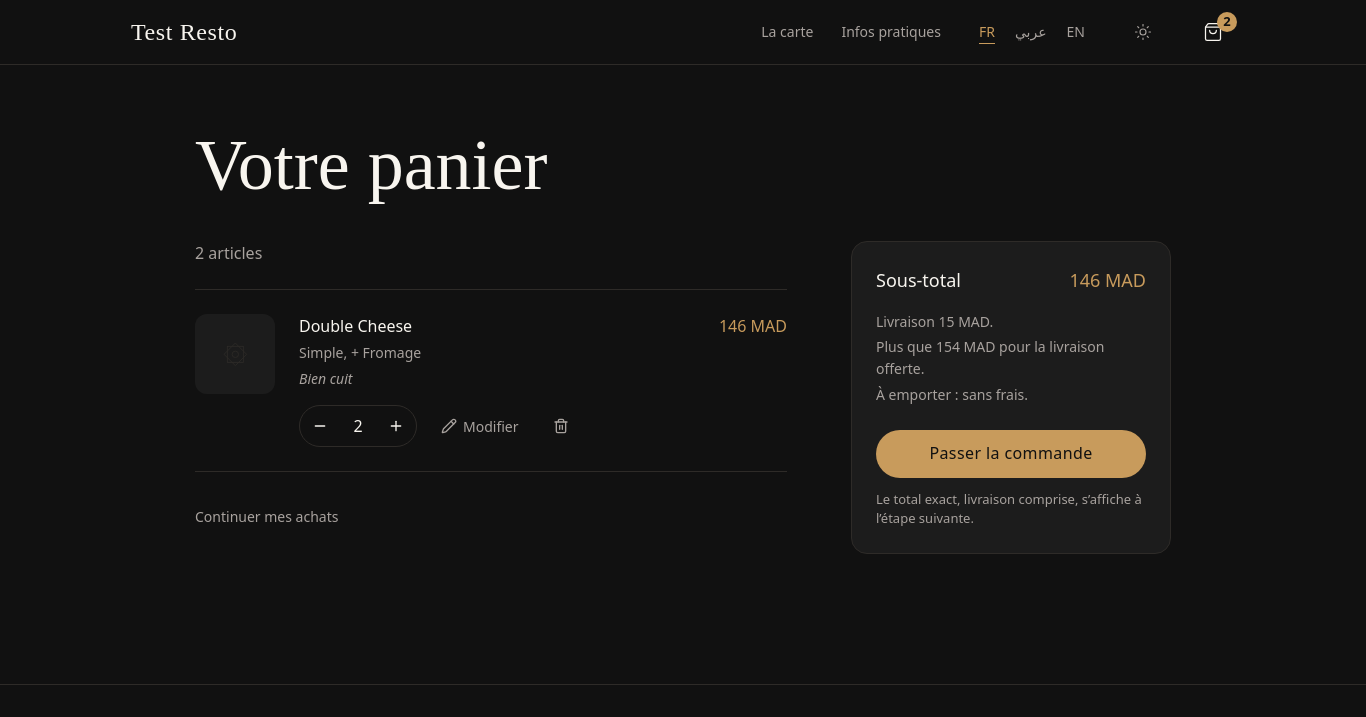
Test: editing a cart line › reopens the dish with the chosen options and replaces the line
Click the link with aria-label "Modifier Double Cheese" at (480, 426), box [441,416,518,436]
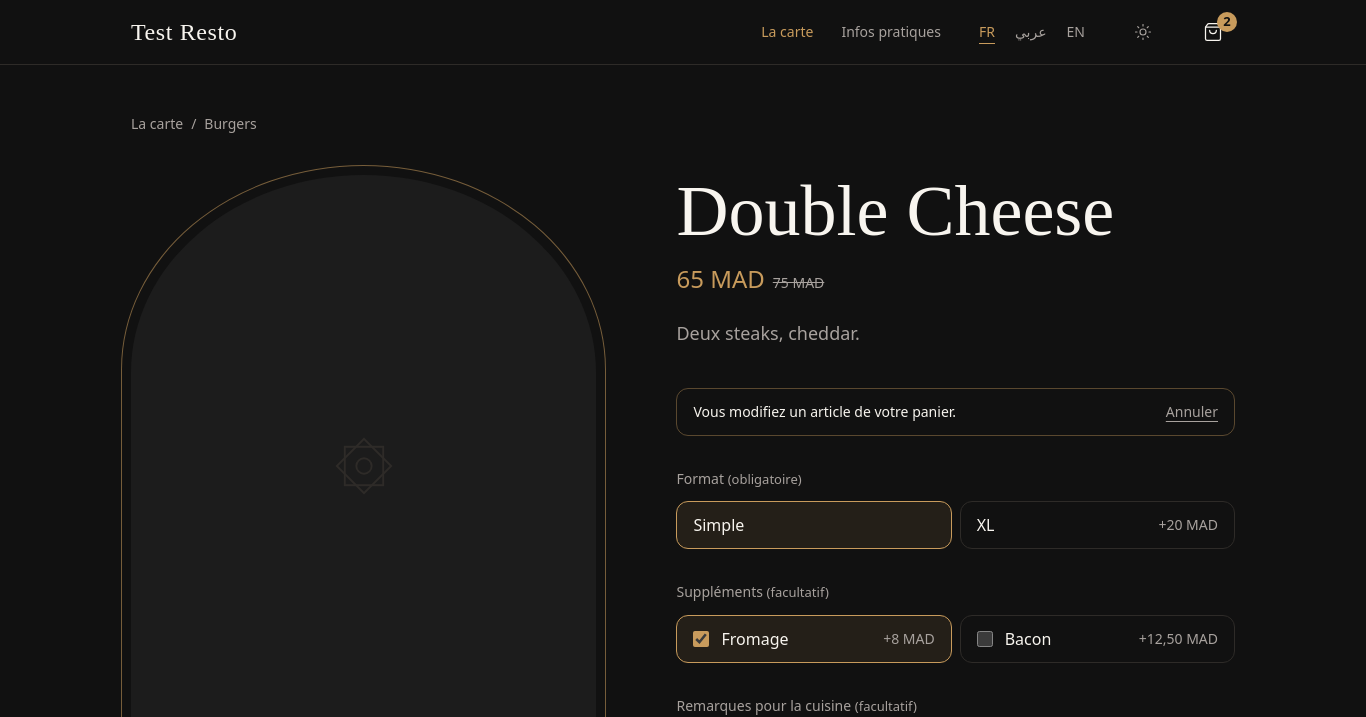
Expected: the text "Vous modifiez un article de votre panier." is shown, [694,402,956,421]
Expected: the radio button labelled "Simple" is checked, [676,501,952,549]
Expected: the checkbox labelled "Fromage +8 MAD" is checked, [694,631,710,647]
Click the radio button labelled "XL +20 MAD" at (1192, 525), box [960,501,1235,549]
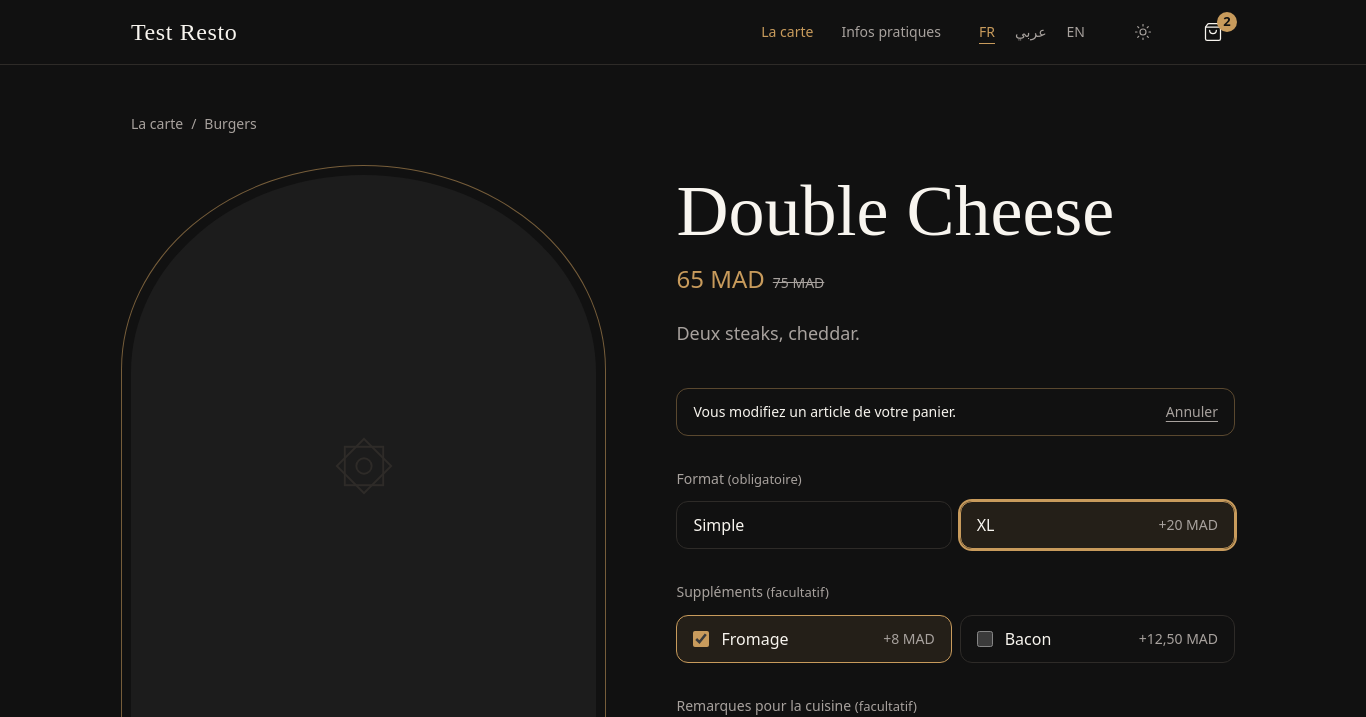
Click the checkbox labelled "Fromage +8 MAD" at (702, 639), box [694,631,710,647]
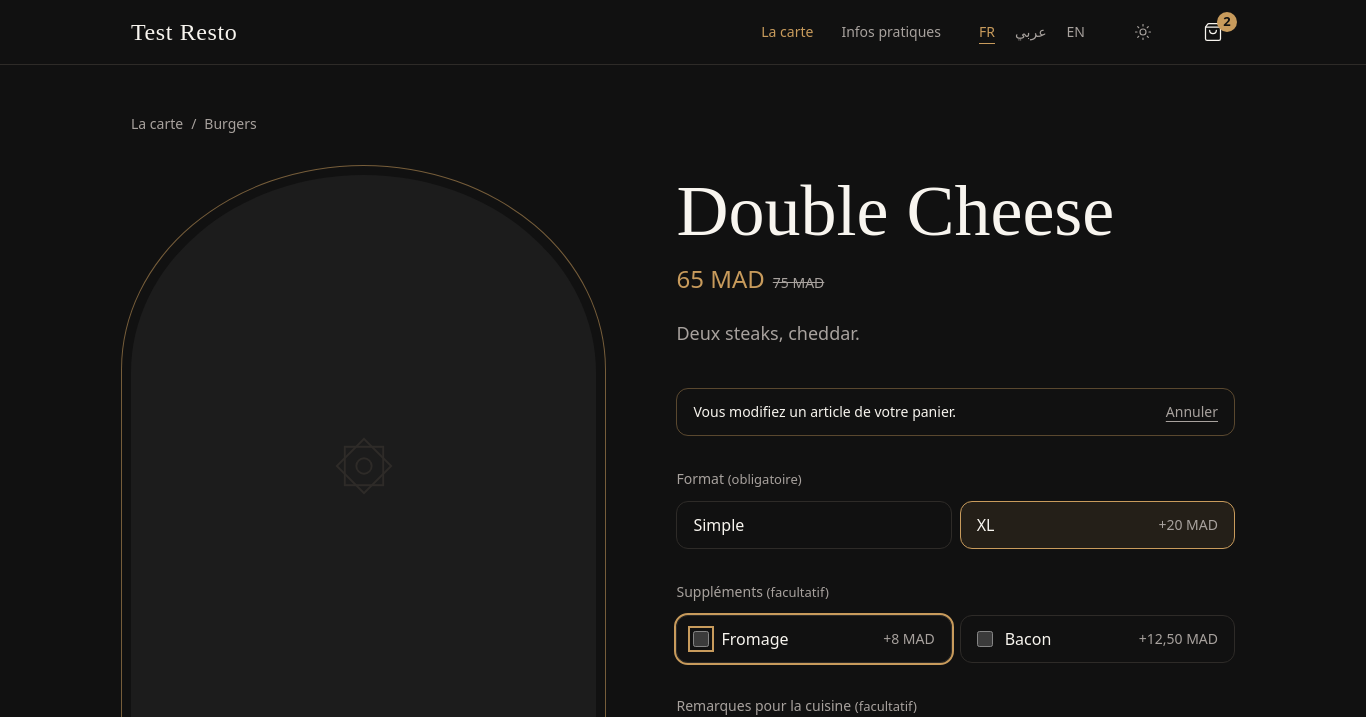
Click the checkbox labelled "Bacon +12,50 MAD" at (985, 639), box [977,631,993,647]
(page scrolled)
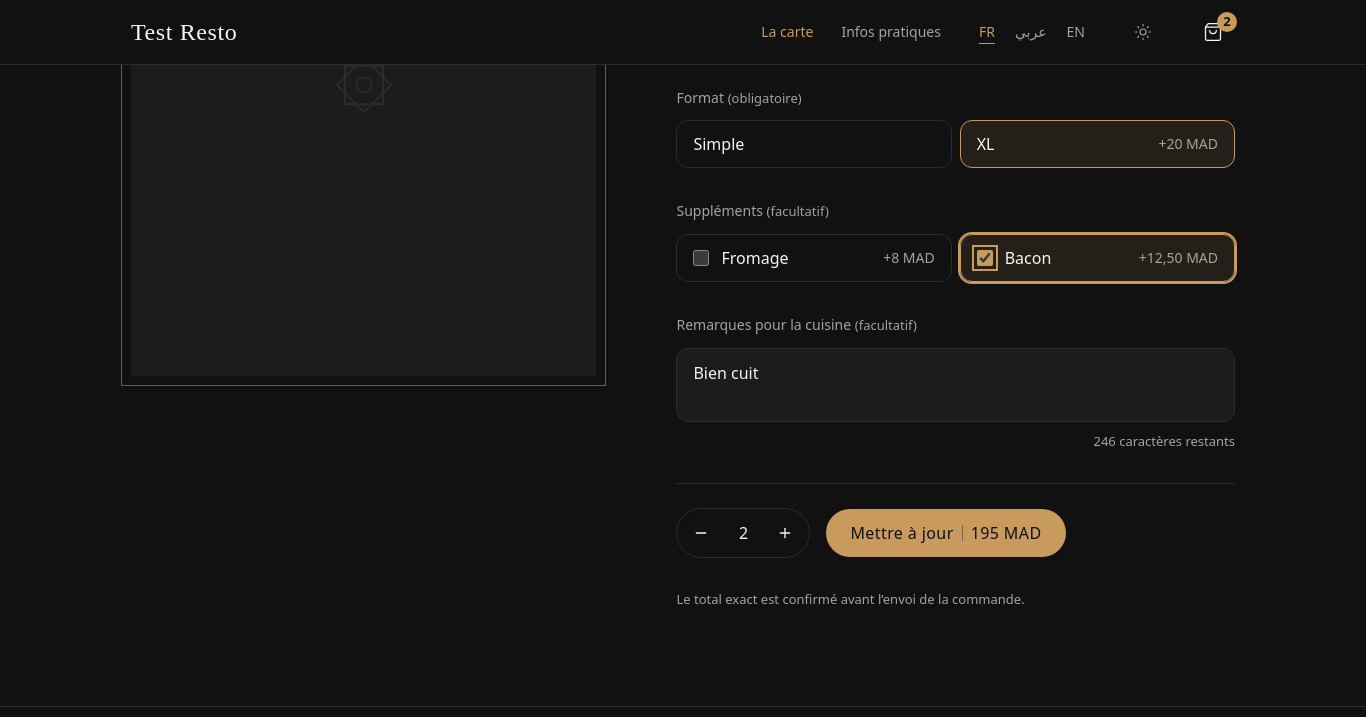
Clear the text box labelled "Remarques pour la cuisine (facultatif)" at (956, 385), box [676,348,1235,422]
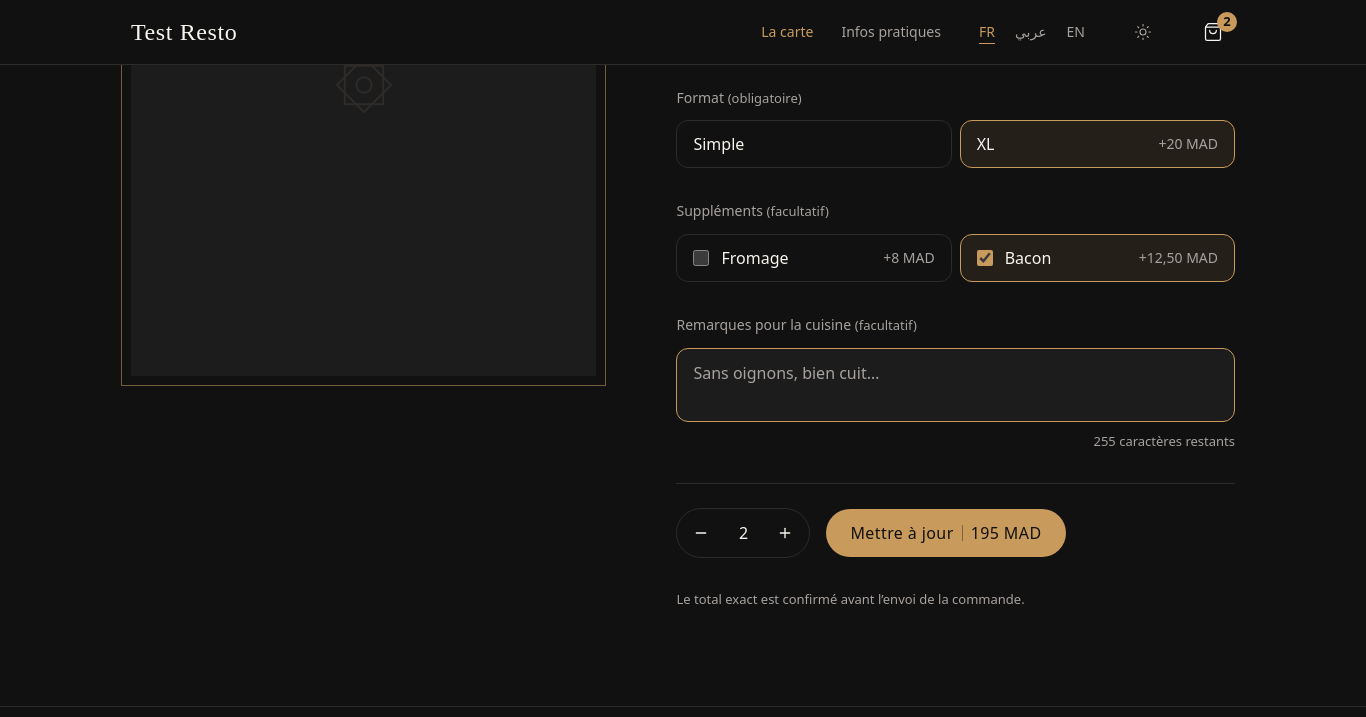
Click the button "Mettre à jour 195 MAD" at (946, 533), box [826,509,1066,557]
(page scrolled)
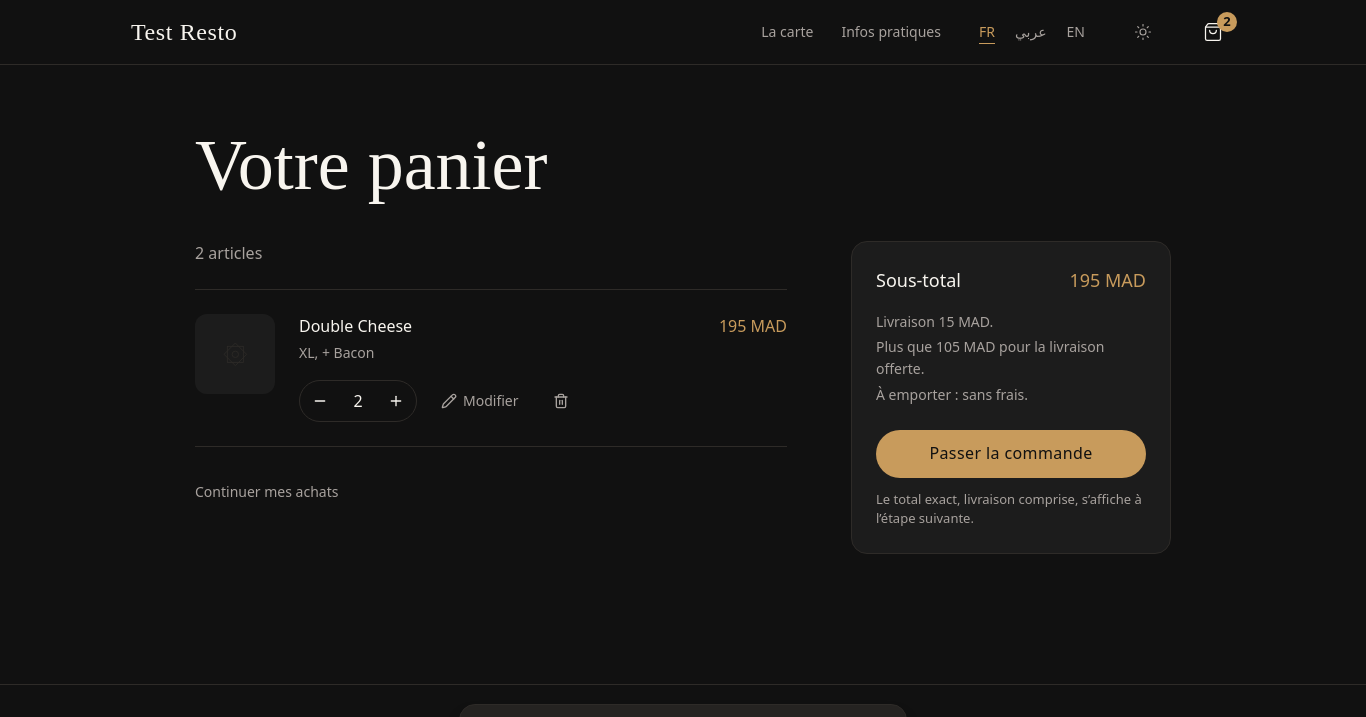
Expected: the text "XL, + Bacon" is shown, [299,343,374,362]
